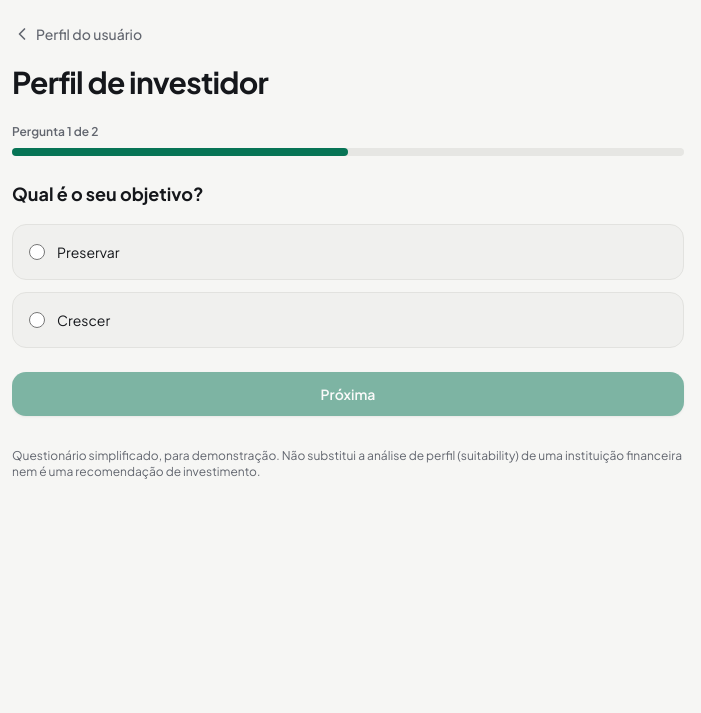
InvestorProfile (questionário) › uma pergunta por vez: só avança com uma opção escolhida e envia só as respostas
Expected: the text "Qual é o seu objetivo?" is shown, [12,180,204,208]
Expected: the text "Pergunta 1 de 2" is shown, [12,124,98,139]
Click the radio button labelled "Crescer" at {"x": 37, "y": 320}, box [29,312,45,328]
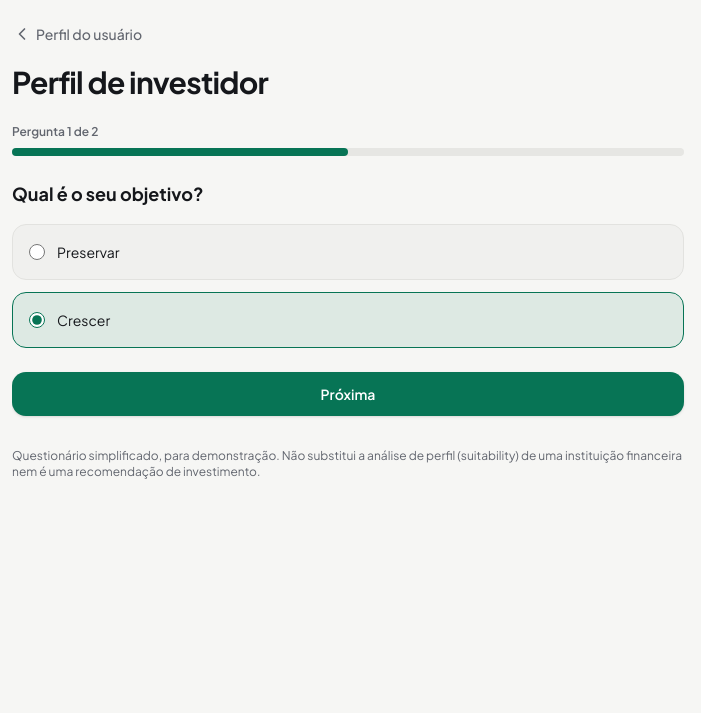
Click the button "Próxima" at {"x": 348, "y": 394}, box [12,372,684,416]
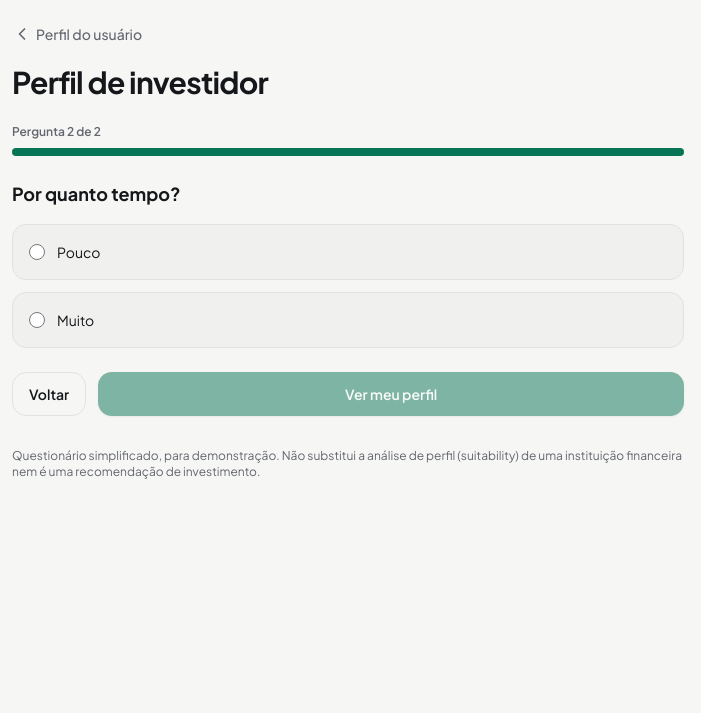
Expected: the text "Por quanto tempo?" is shown, [12,180,180,208]
Click the radio button labelled "Muito" at {"x": 37, "y": 320}, box [29,312,45,328]
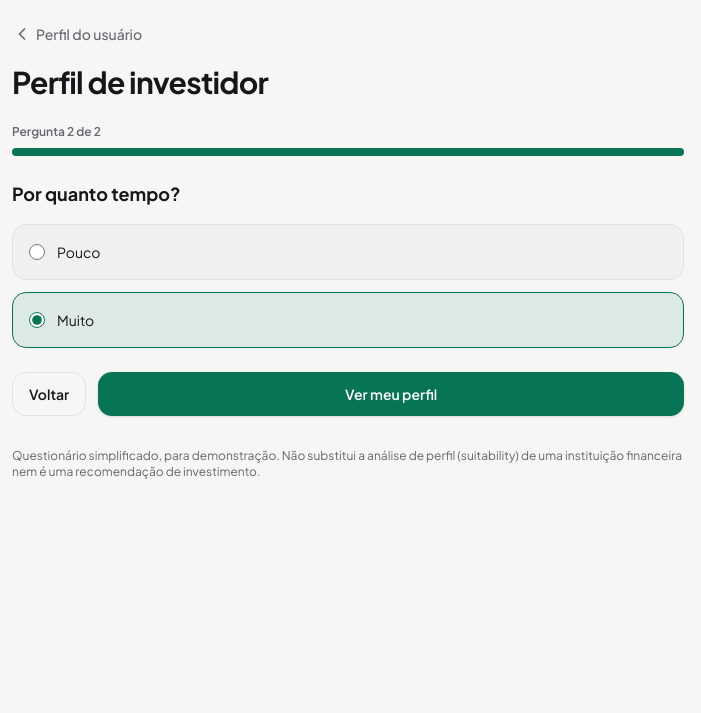
Click the button "Ver meu perfil" at {"x": 391, "y": 394}, box [98,372,684,416]
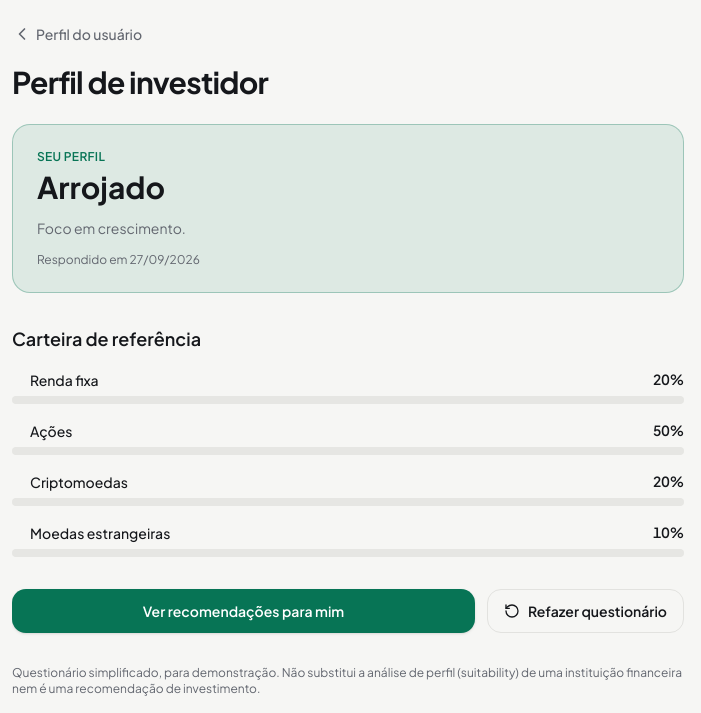
Expected: the text "Arrojado" is shown, [37,168,165,206]
